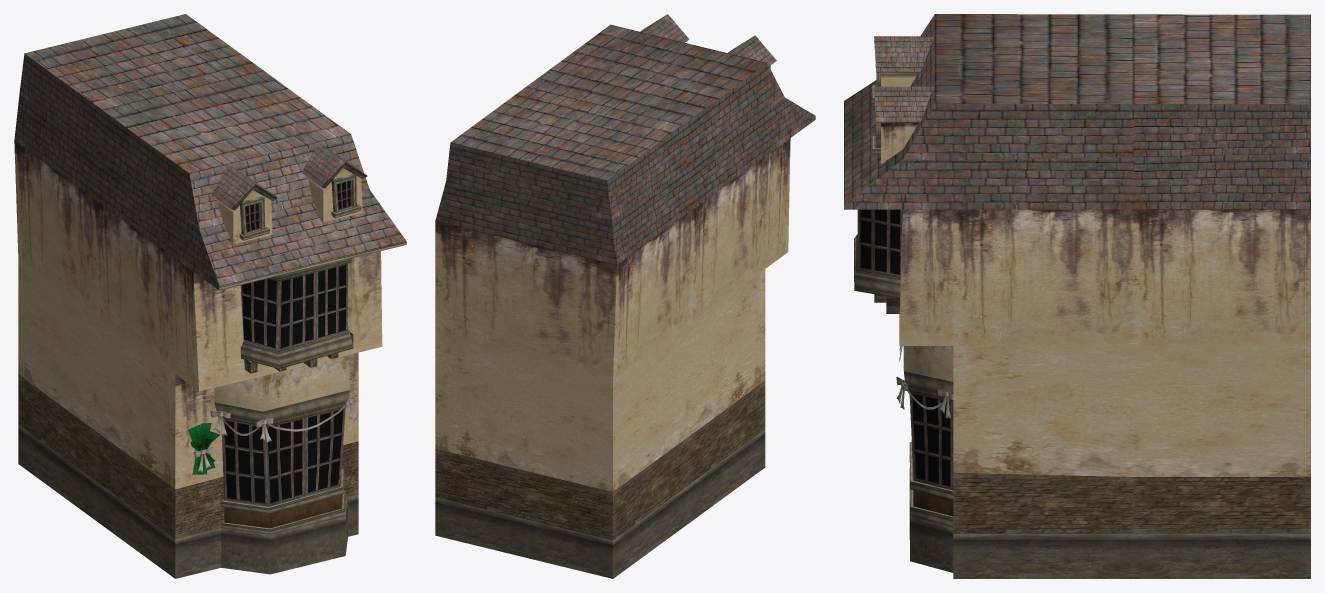
The model's file is english_l.fbx.
3 views of the same model, side by side, from view 1: azimuth 30°, elevation 25°; view 2: azimuth 150°, elevation 25°; view 3: azimuth 270°, elevation 25° (orthographic). The views are drawn at different scales.
Parts seen in each view (by area): view 1: building_shell, building_shell1, window_bay, dormer2, dormer1, window_e_04, window_e_03; view 2: building_shell, dormer1, dormer2; view 3: building_shell, building_shell1, window_bay, dormer2, dormer1.
Part boxes in pixels (x1,y1,x2,y2): building_shell: (14,14,406,578); building_shell1: (214,355,349,574); window_bay: (240,258,353,368); dormer2: (301,143,367,222); dormer1: (212,165,276,244); window_e_04: (331,174,361,218); window_e_03: (239,196,269,240); building_shell: (435,24,815,578); dormer1: (727,35,776,68); dormer2: (640,14,689,42); building_shell: (844,14,1310,578); building_shell1: (903,346,953,572); window_bay: (854,209,902,298); dormer2: (874,86,933,163); dormer1: (874,36,934,86).
Bounding box in the file's own units: 2462 × 5148 × 4668.
Materials: 2 (2 with a texture image).
